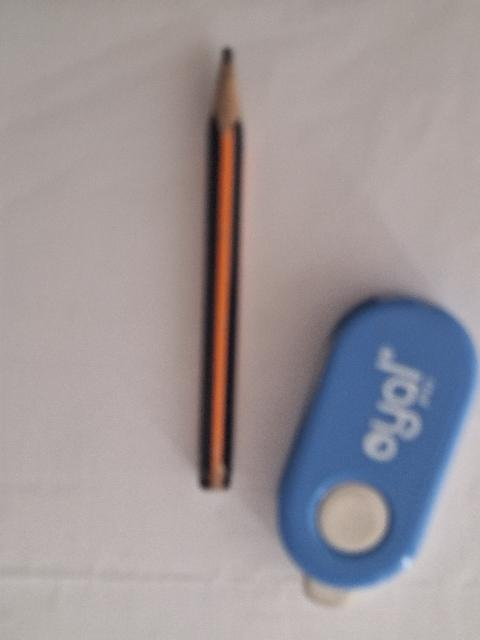writing_tool: (193, 43, 256, 486)
